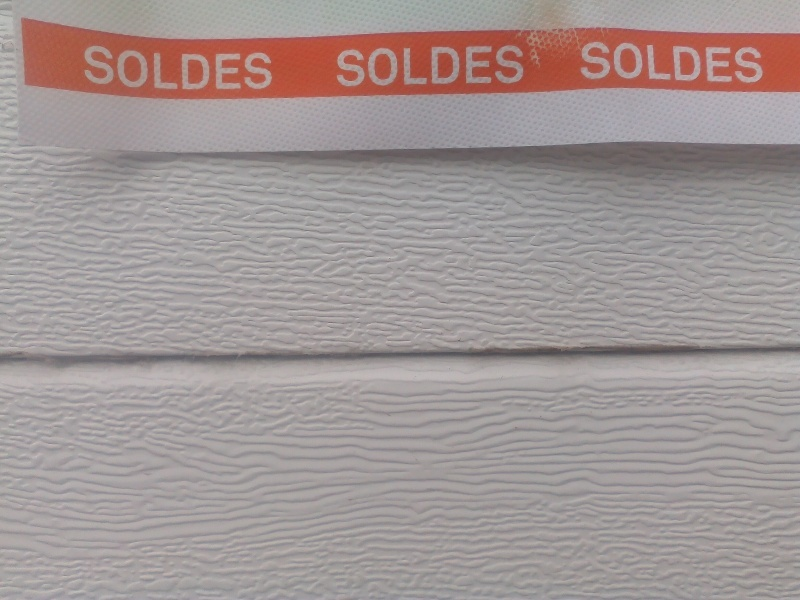text: (97, 44, 112, 91), (113, 44, 128, 91), (129, 44, 144, 91), (145, 44, 160, 91), (161, 44, 176, 91), (177, 44, 192, 91), (193, 44, 208, 91), (209, 44, 224, 91), (225, 44, 240, 91), (241, 44, 256, 91), (257, 44, 272, 91), (353, 44, 368, 88), (369, 44, 384, 88), (385, 44, 400, 88), (401, 44, 416, 88), (417, 44, 432, 88), (433, 44, 448, 88), (449, 44, 464, 88), (465, 44, 480, 88), (481, 44, 496, 88), (497, 44, 512, 88), (593, 41, 608, 85), (609, 41, 624, 85), (625, 41, 640, 85), (641, 41, 656, 85), (657, 41, 672, 85), (673, 41, 688, 85), (689, 41, 704, 85), (705, 41, 720, 85), (721, 41, 736, 85), (737, 41, 752, 85), (338, 44, 352, 88), (83, 44, 96, 91), (513, 44, 526, 88), (579, 41, 592, 85), (753, 41, 764, 85), (273, 44, 274, 91)
